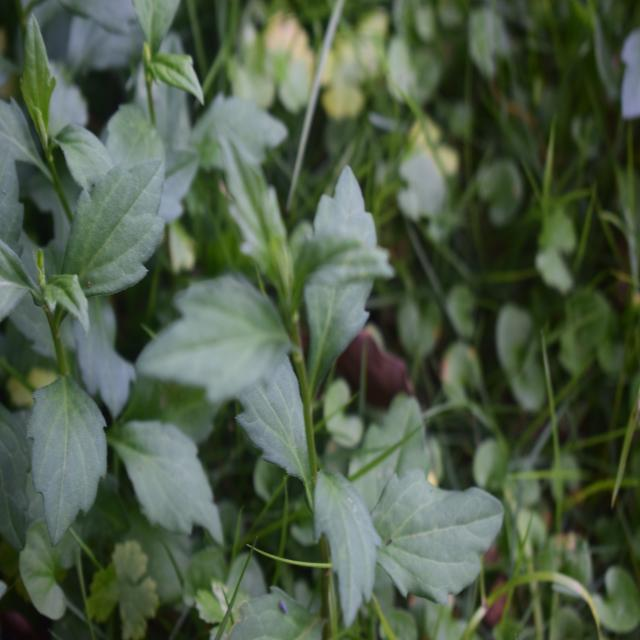Indian aster: (0, 46, 230, 564), (201, 160, 470, 602)
